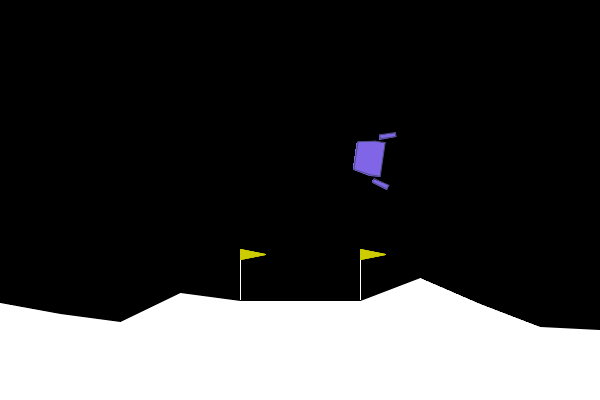lander: (349, 126, 397, 191)
